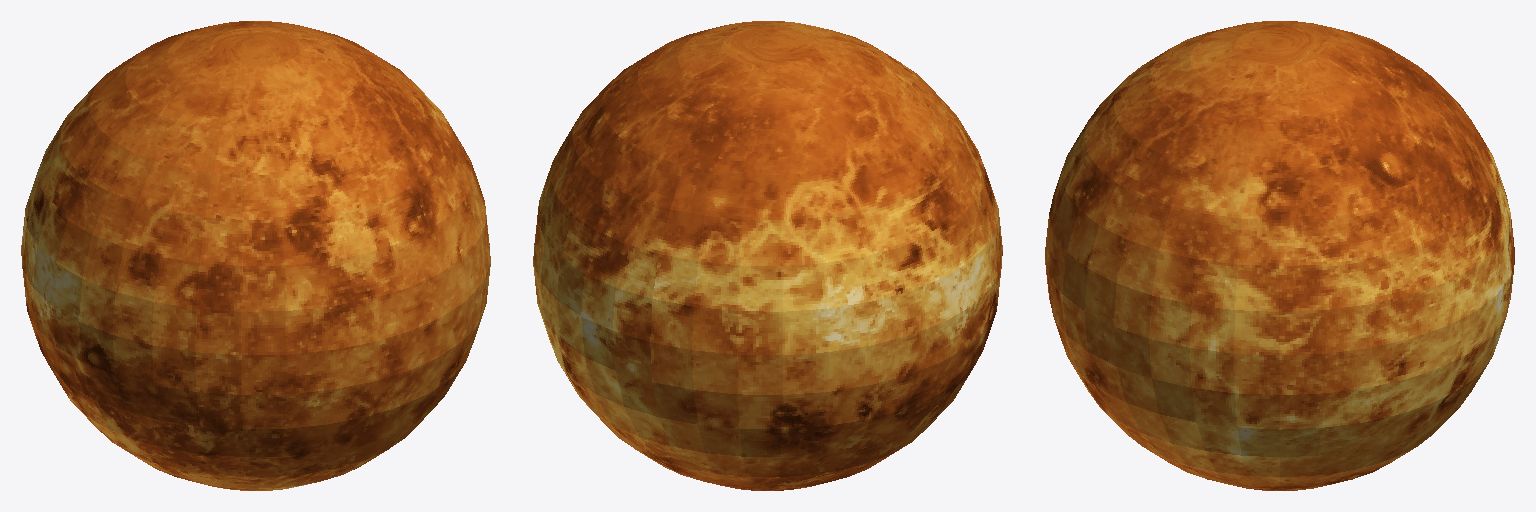
The picture shows the model from 3 angles: view 1: azimuth 30°, elevation 25°; view 2: azimuth 150°, elevation 25°; view 3: azimuth 270°, elevation 25°; orthographic projection.
Visible parts, largest first — view 1: Sphere; view 2: Sphere; view 3: Sphere.
Boxes of the visible parts, box(x1,y1,x2,y2) form: Sphere: box(21, 21, 490, 490); Sphere: box(533, 21, 1002, 490); Sphere: box(1045, 21, 1514, 490).
Bounding box in the file's own units: 2 × 2 × 2.
1 materials, 1 textured.